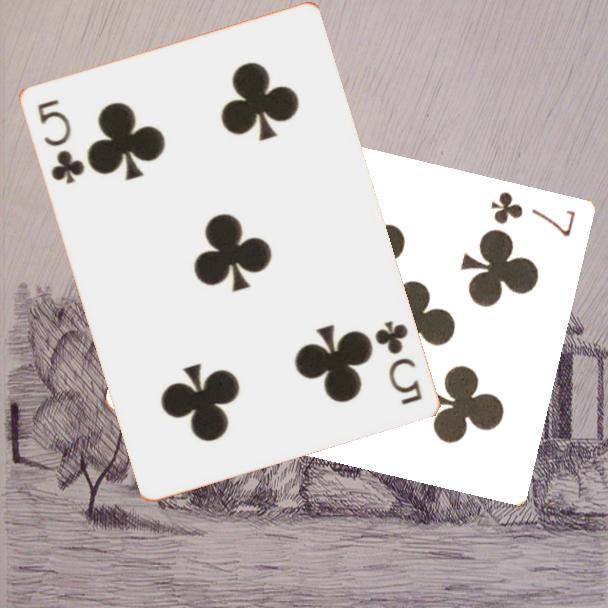c05: (370, 316, 425, 408), (33, 95, 87, 187)
c07: (488, 187, 579, 240)
